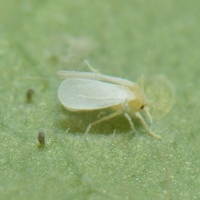insect: (57, 60, 161, 139)
